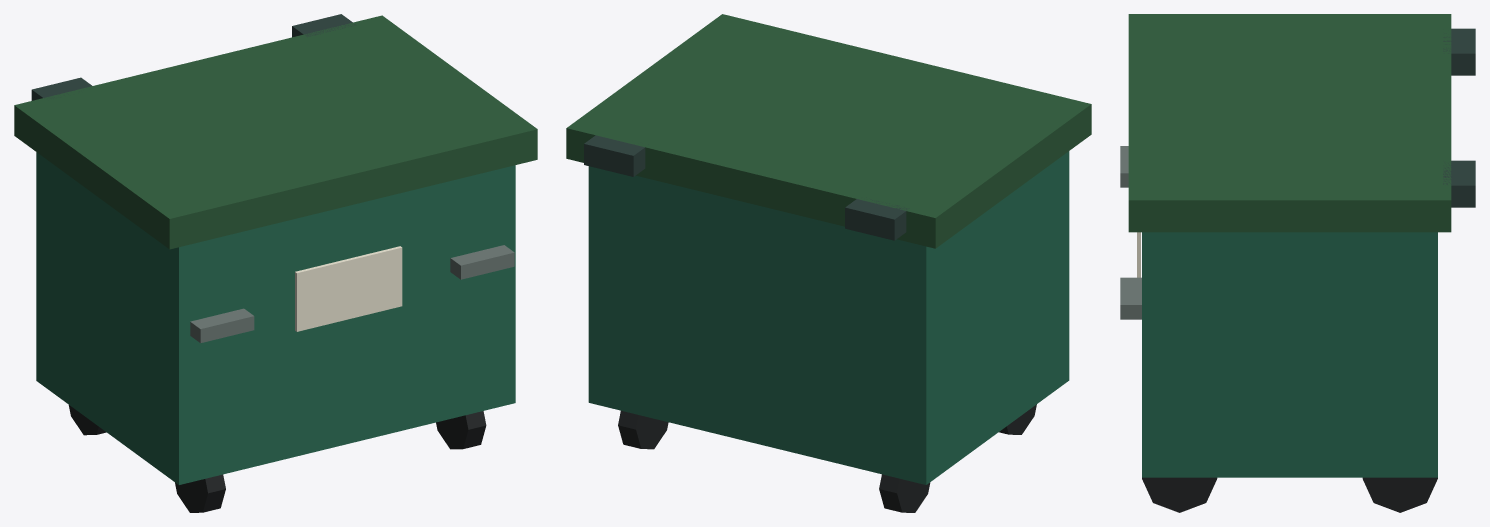
Rendered from WasteContainer.obj.
The picture shows the model from 3 angles, left to right: view 1: azimuth 30°, elevation 25°; view 2: azimuth 150°, elevation 25°; view 3: azimuth 270°, elevation 25°; orthographic projection. The views are drawn at different scales.
Parts seen in each view (by area): view 1: WasteContainer; view 2: WasteContainer; view 3: WasteContainer.
Part boxes in pixels (<box>): WasteContainer: <box>14,14,537,512</box>; WasteContainer: <box>566,14,1091,512</box>; WasteContainer: <box>1120,14,1475,512</box>.
Size of the model in its own units: 1.64 by 1.38 by 1.32.
